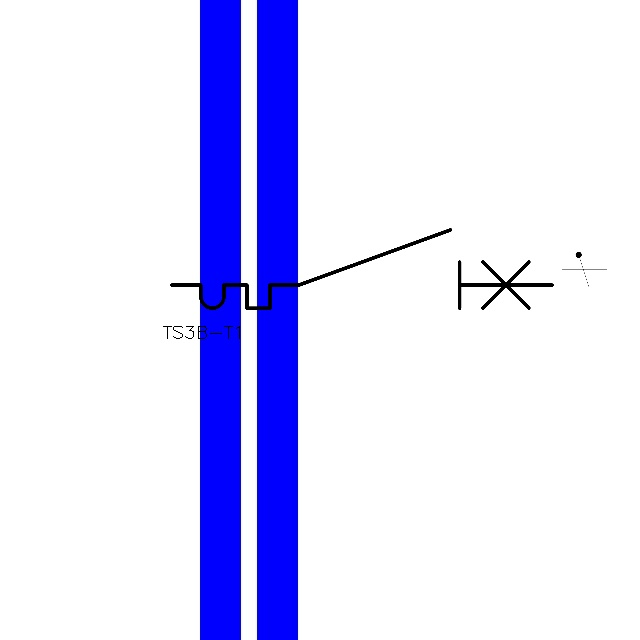interruptor_termomagnetico: (162, 220, 562, 318)
